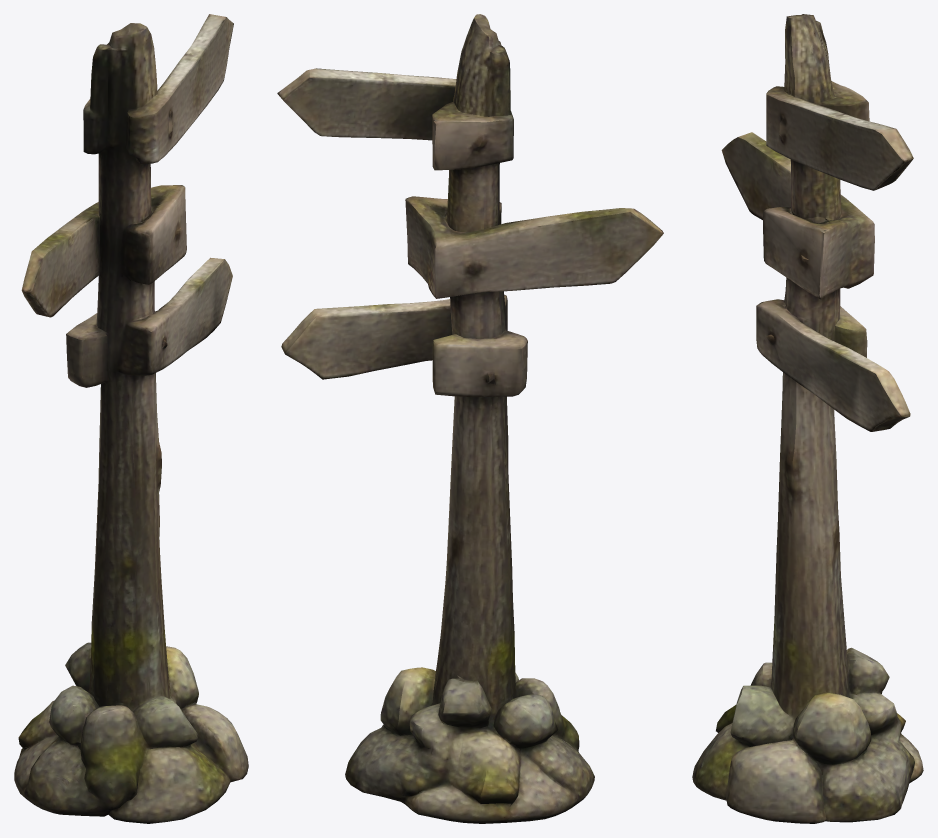
Rendered from prop-signpost.glb.
3 views of the same model, side by side, from view 1: azimuth 30°, elevation 25°; view 2: azimuth 150°, elevation 25°; view 3: azimuth 270°, elevation 25° (orthographic).
Visible parts, largest first — view 1: prop-signpost; view 2: prop-signpost; view 3: prop-signpost.
Part boxes in pixels (x1,y1,x2,y2): prop-signpost: [14, 14, 248, 823]; prop-signpost: [277, 14, 663, 823]; prop-signpost: [692, 14, 923, 823].
Size of the model in its own units: 1.4 by 3.4 by 0.9264.
1 material, 1 textured.
